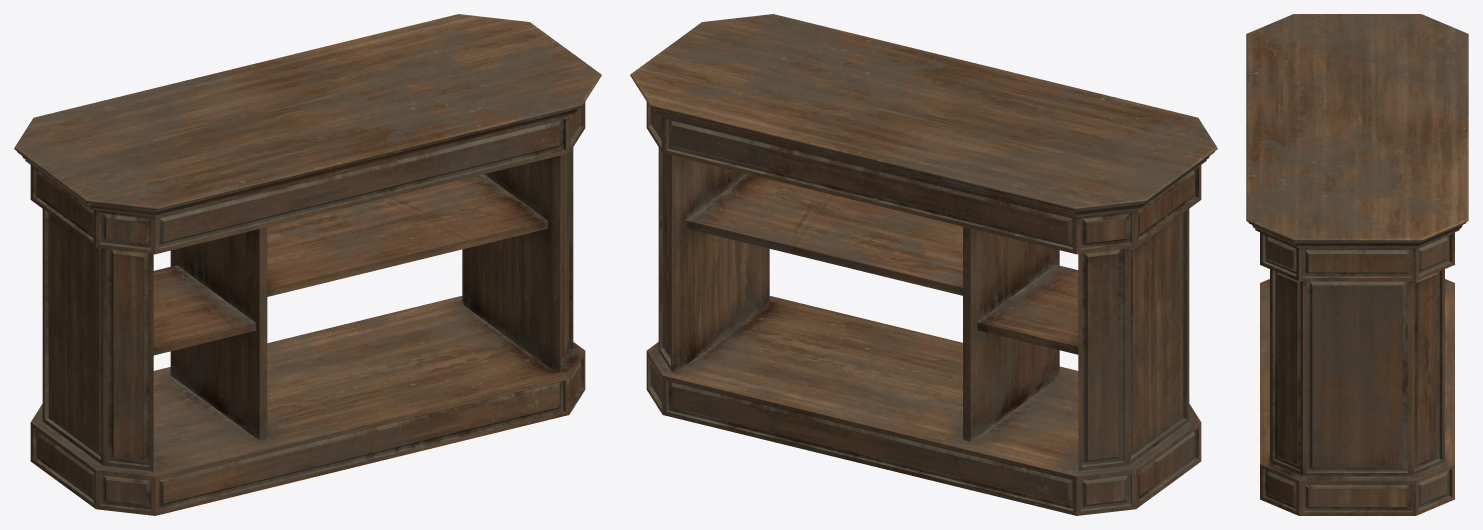
The model's file is SM_Stand_02.obj.
The picture shows the model from 3 angles, left to right: view 1: azimuth 30°, elevation 25°; view 2: azimuth 150°, elevation 25°; view 3: azimuth 270°, elevation 25°; orthographic projection. The views are drawn at different scales.
Visible parts, largest first — view 1: SM_Stand_02; view 2: SM_Stand_02; view 3: SM_Stand_02.
Part boxes in pixels (box(x1,y1,x2,y2)): SM_Stand_02: box(14, 14, 601, 515); SM_Stand_02: box(630, 14, 1217, 515); SM_Stand_02: box(1246, 14, 1468, 515).
Size of the model in its own units: 145 by 84.37 by 60.23.
Materials: 1 (1 with a texture image).
